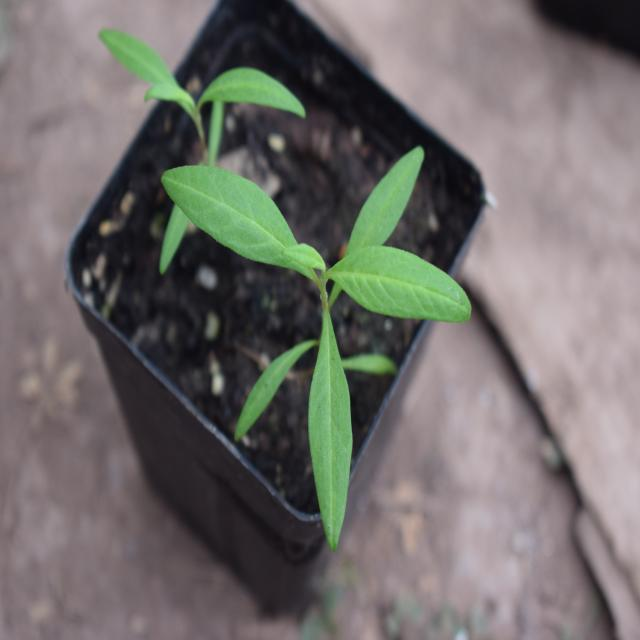white_smart_weed: (162, 145, 468, 558)
